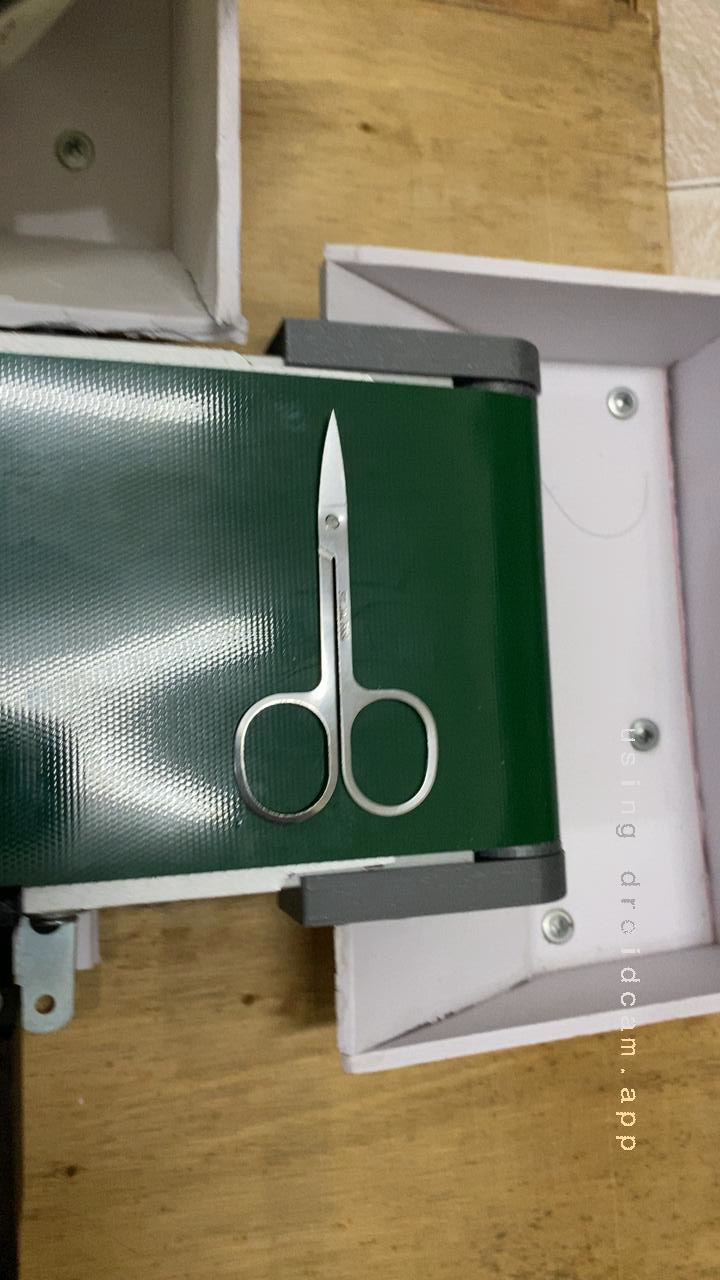scissor: (202, 405, 464, 859)
